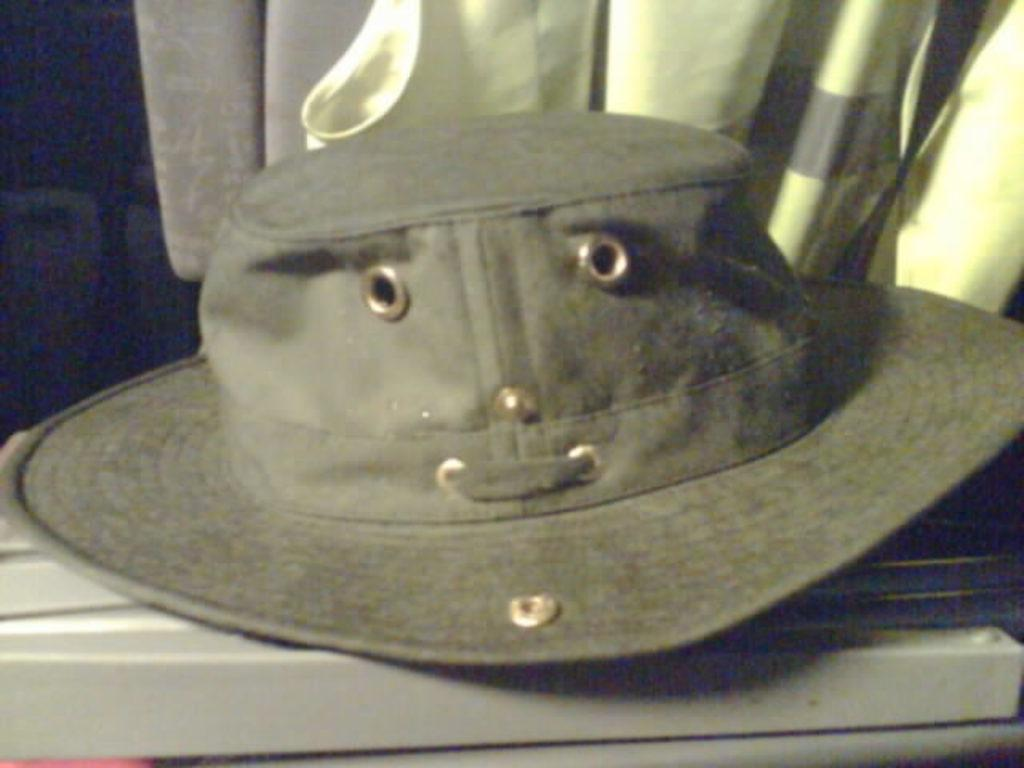Hat: (0, 113, 1022, 670)
